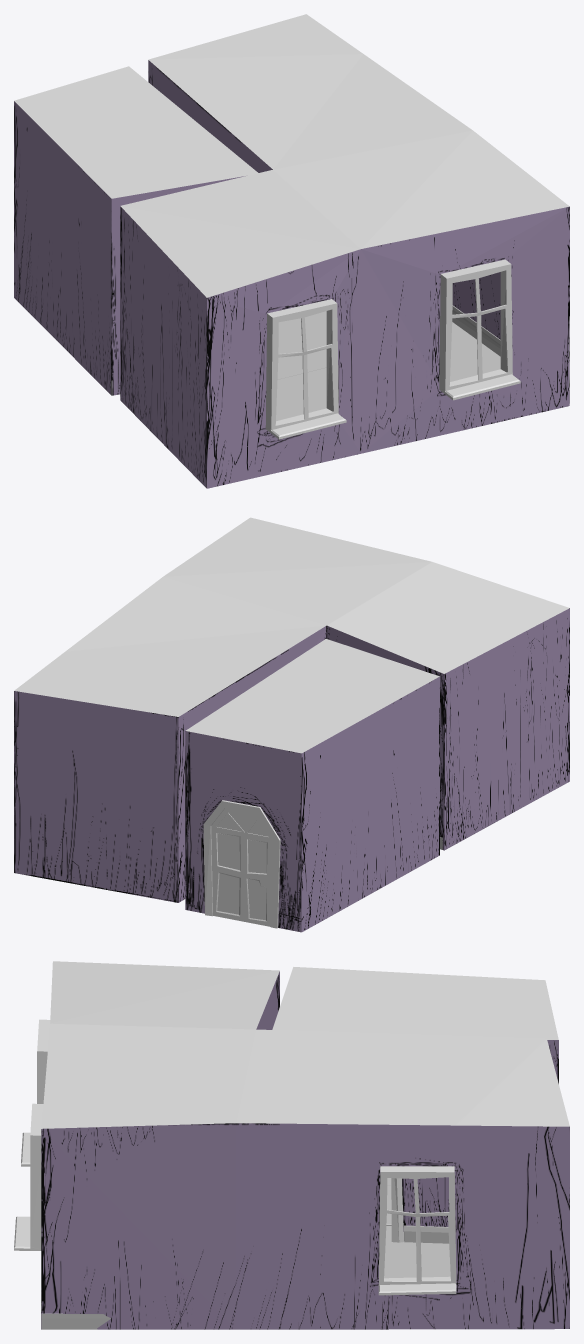
Rendered from house_full.dae.
The picture shows the model from 3 angles, top to bottom: view 1: azimuth 30°, elevation 25°; view 2: azimuth 150°, elevation 25°; view 3: azimuth 270°, elevation 25°; orthographic projection. The views are drawn at different scales.
Parts seen in each view (by area): view 1: hall, main-ceiling, hall-ceiling, window.001, window.002, floor, big_rug, moulding_main; view 2: hall, main-ceiling, hall-ceiling, Cube, Cube.001; view 3: hall, main-ceiling, hall-ceiling, window, floor, window.001, moulding_main, window.002, door_frame.
Boxes of the visible parts, x1,y1,x2,y2 form: hall: (14, 60, 569, 488); main-ceiling: (120, 14, 569, 297); hall-ceiling: (14, 66, 257, 198); window.001: (439, 259, 520, 400); window.002: (265, 299, 346, 439); floor: (277, 311, 500, 379); big_rug: (276, 360, 474, 421); moulding_main: (452, 305, 569, 403); hall: (14, 608, 569, 932); main-ceiling: (14, 517, 569, 716); hall-ceiling: (185, 639, 439, 753); Cube: (211, 808, 273, 926); Cube.001: (203, 800, 280, 928); hall: (41, 971, 569, 1329); main-ceiling: (41, 961, 569, 1128); hall-ceiling: (272, 967, 558, 1039); window: (378, 1166, 456, 1295); floor: (384, 1178, 450, 1278); window.001: (14, 1103, 43, 1250); moulding_main: (41, 1225, 449, 1329); window.002: (21, 1019, 50, 1166); door_frame: (391, 1178, 404, 1242).
Size of the model in its own units: 11.09 by 13.85 by 5.68.
